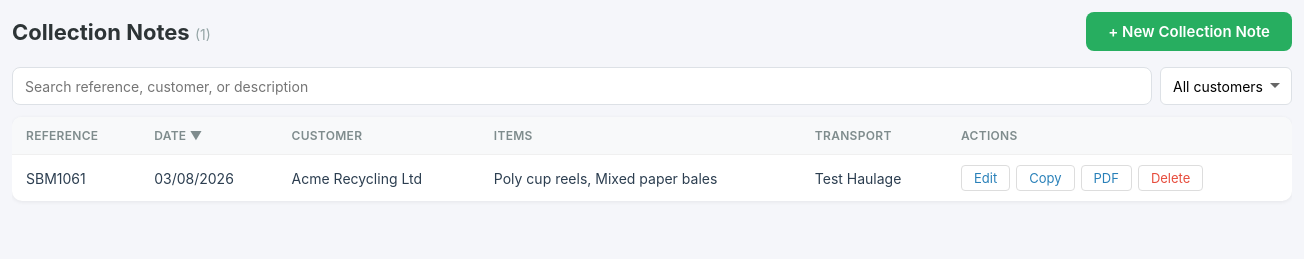
Test case: CollectionNotes list › reports a failed copy rather than failing silently
Expected: the text "SBM1061" is shown, top-left (12, 154), bottom-right (140, 201)
Click the button "Copy".
click(1045, 178)  # box top-left (1016, 165), bottom-right (1074, 191)
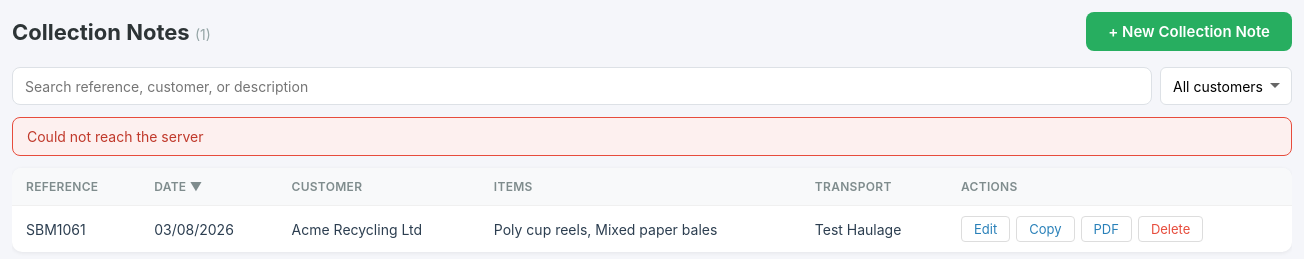
Now the text "Could not reach the server" is shown, box top-left (12, 117), bottom-right (1292, 156)
